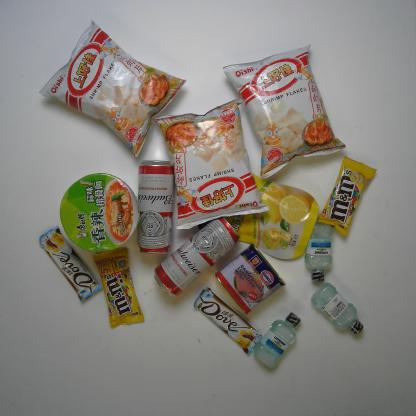Alcohol: (153, 215, 239, 294), (138, 161, 174, 254)
Canned Food: (215, 244, 285, 314)
Chocolate: (316, 154, 376, 240), (39, 226, 102, 303), (194, 288, 262, 357), (92, 248, 144, 326)
Dried Fruit: (206, 167, 320, 261)
Instant Noodles: (60, 173, 138, 251)
Personal Hygiene: (311, 282, 364, 336), (253, 312, 301, 368), (304, 222, 332, 281)
Puffed Food: (38, 21, 186, 158), (223, 43, 346, 177), (152, 99, 268, 228)
